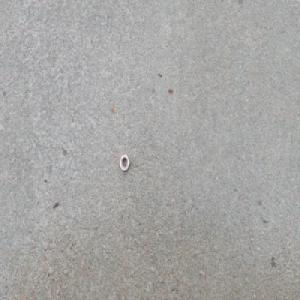Nut: (119, 154, 130, 172)
